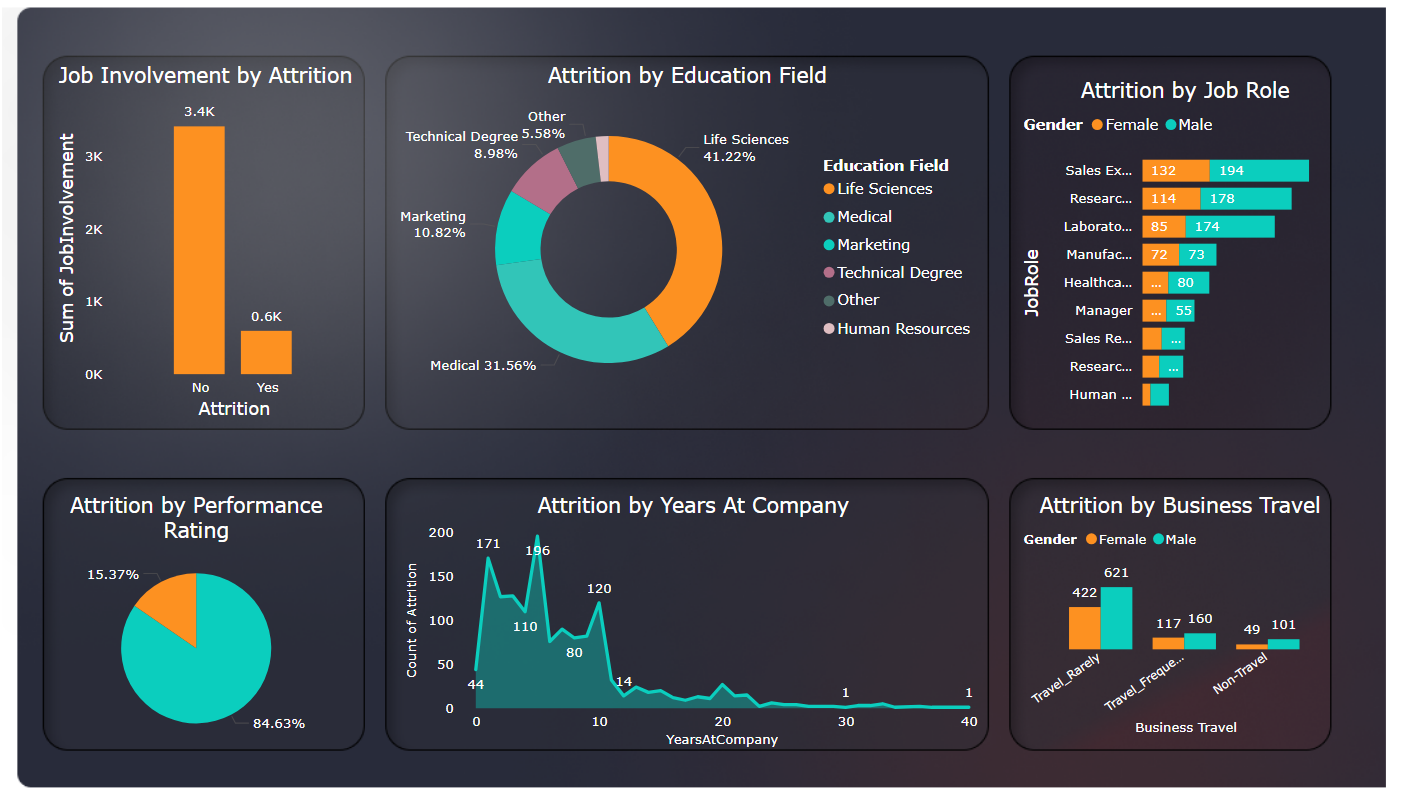

The page's visual inventory and layout, read from the dashboard file:
{"tool":"powerbi","page":{"name":"Attrition","canvas":[1280,720],"ordinal":1},"visuals":[{"type":"image","box":[0,0,1280.8,719.2],"z":0},{"type":"areaChart","title":"Attrition by Years At Company","fields":{"Category":["HR-Employee-Attrition.YearsAtCompany"],"Y":["CountNonNull(HR-Employee-Attrition.Attrition)"]},"box":[373.8,445,531.2,237.5],"z":1000},{"type":"clusteredColumnChart","title":" Attrition by Business Travel ","fields":{"Category":["HR-Employee-Attrition.BusinessTravel"],"Y":["CountNonNull(HR-Employee-Attrition.Attrition)"],"Series":["HR-Employee-Attrition.Gender"]},"box":[934.2,445.2,294.5,226],"z":2000},{"type":"donutChart","title":" Attrition by Education Field","fields":{"Category":["HR-Employee-Attrition.EducationField"],"Y":["CountNonNull(HR-Employee-Attrition.Attrition)"]},"box":[363,54.8,542.5,317.8],"z":3000},{"type":"barChart","title":"Attrition by Job Role","fields":{"Category":["HR-Employee-Attrition.JobRole"],"Y":["CountNonNull(HR-Employee-Attrition.Attrition)"],"Series":["HR-Employee-Attrition.Gender"]},"box":[934.7,68,304,314.7],"z":4000},{"type":"pieChart","title":" Attrition by Performance Rating","fields":{"Y":["CountNonNull(HR-Employee-Attrition.Attrition)"],"Category":["HR-Employee-Attrition.PerformanceRating"]},"box":[38.2,445.6,298.5,238.2],"z":5000},{"type":"columnChart","title":"Job Involvement by Attrition","fields":{"Category":["HR-Employee-Attrition.Attrition"],"Y":["Sum(HR-Employee-Attrition.JobInvolvement)"]},"box":[57.5,54.8,279.5,328.8],"z":6000}]}

Visuals, with their boxes in screenshot pixels (x1, y1, x2, y2), scaled from the page's 1280x720 canvas onto the 1405x802 screenshot:
image: crop(0, 0, 1404, 801)
"Attrition by Years At Company" areaChart: crop(410, 496, 993, 760)
" Attrition by Business Travel " clusteredColumnChart: crop(1025, 496, 1349, 748)
" Attrition by Education Field" donutChart: crop(398, 61, 994, 415)
"Attrition by Job Role" barChart: crop(1026, 76, 1360, 426)
" Attrition by Performance Rating" pieChart: crop(42, 496, 370, 762)
"Job Involvement by Attrition" columnChart: crop(63, 61, 370, 427)
